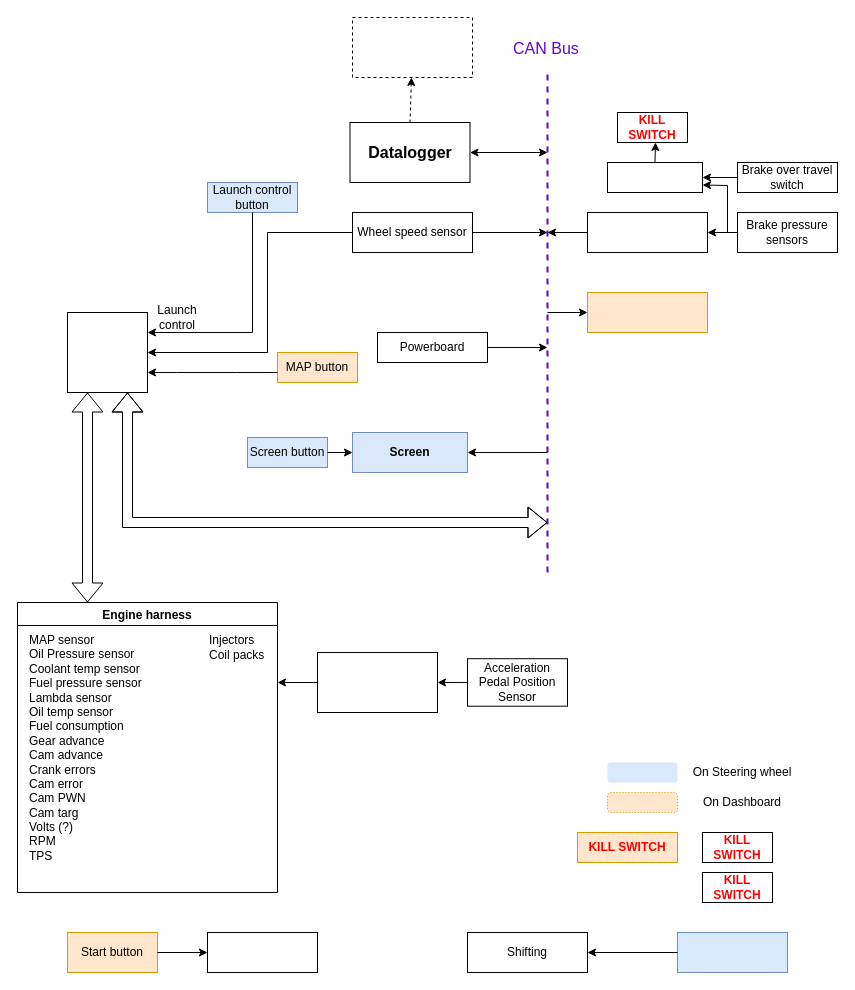
Some shapes in this 855 by 990 pixel diagram are drawn without their labels. The shapes that lost their labels are listed below. From the top down, each one's centre as x and y in pixels, then its label:
At [412,47]: "external (radio/LTE)".
At [654,177]: "BSPD".
At [647,232]: "Brake Light".
At [647,312]: "Rev counter".
At [107,352]: "ECU".
At [377,682]: "Electronic Throttle Control".
At [262,952]: "Starter".
At [732,952]: "Shifting button".
